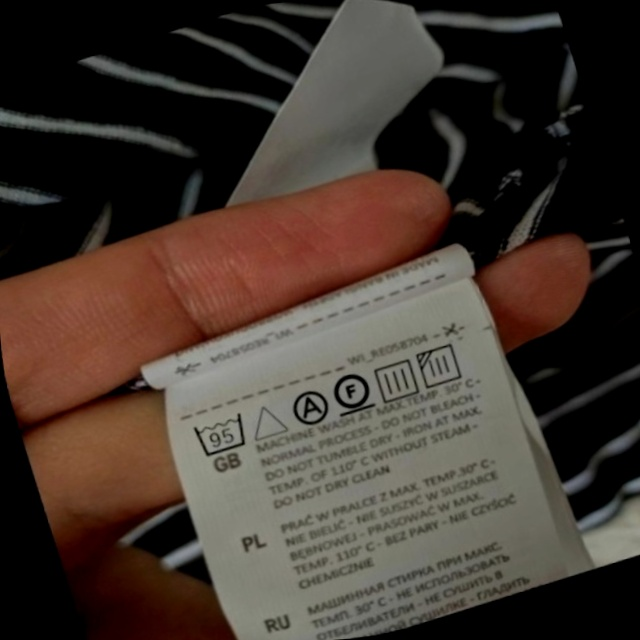95C: (183, 401, 260, 468)
bleach: (239, 391, 295, 450)
drip_dry: (364, 348, 429, 412)
drip_dry_in_shade: (408, 332, 475, 399)
dry_clean: (281, 380, 338, 436)
dry_clean_petrol_only: (321, 359, 383, 424)
